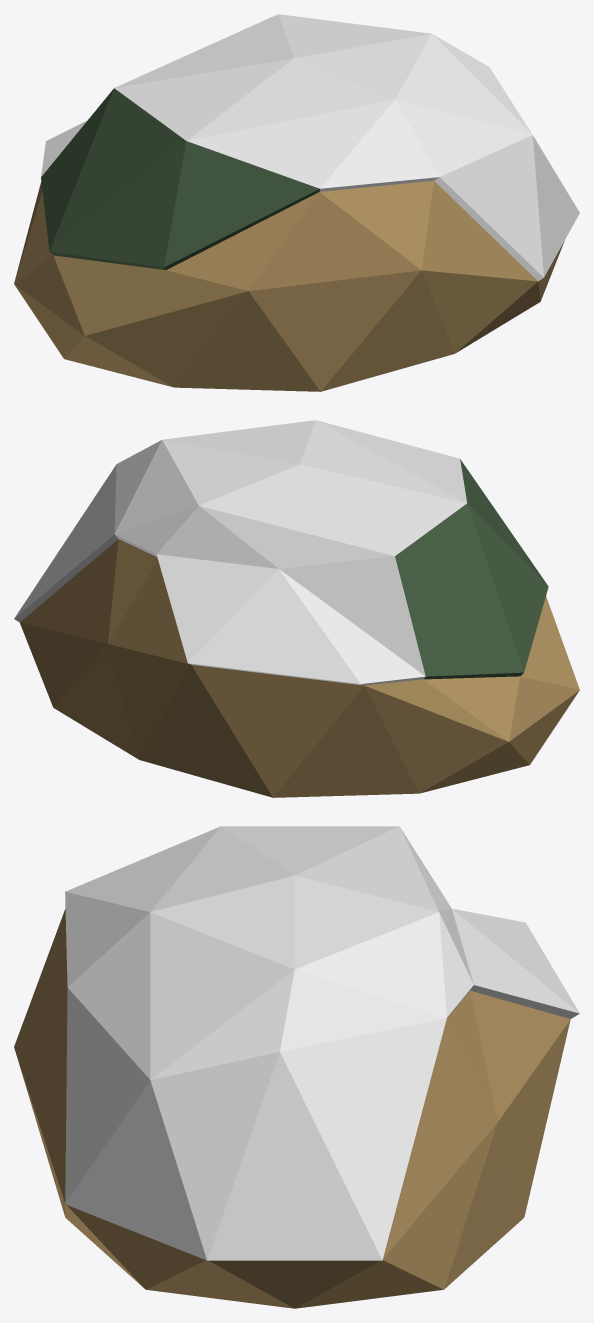
Rendered from MossStone2b.fbx.
3 renders of one model, top to bottom at view 1: azimuth 30°, elevation 25°; view 2: azimuth 150°, elevation 25°; view 3: azimuth 270°, elevation 25°, orthographic. The views are drawn at different scales.
Visible parts, largest first — view 1: MossStone2.001; view 2: MossStone2.001; view 3: MossStone2.001.
Boxes of the visible parts, x1,y1,x2,y2 form: MossStone2.001: (14, 14, 579, 391); MossStone2.001: (14, 420, 579, 797); MossStone2.001: (14, 826, 579, 1308).
Size of the model in its own units: 498 by 235 by 399.
